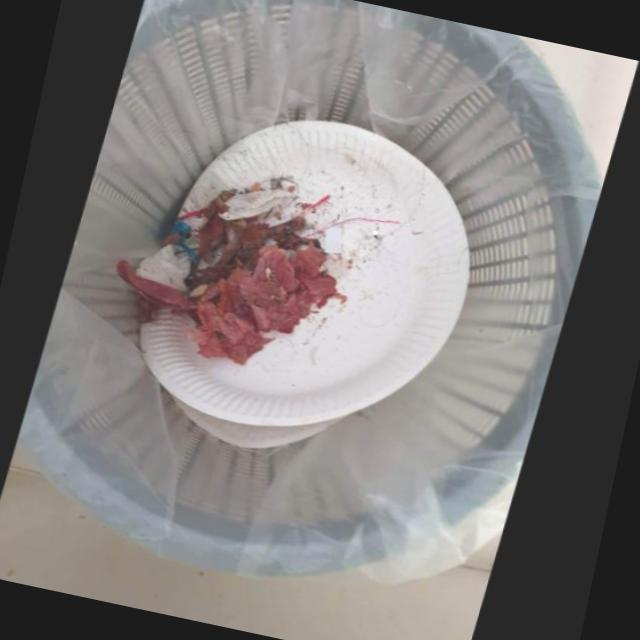carton: (141, 118, 472, 427), (173, 393, 351, 448)
thuc_an_thua: (193, 201, 323, 287)
vo_rau_cu: (117, 241, 339, 364)
